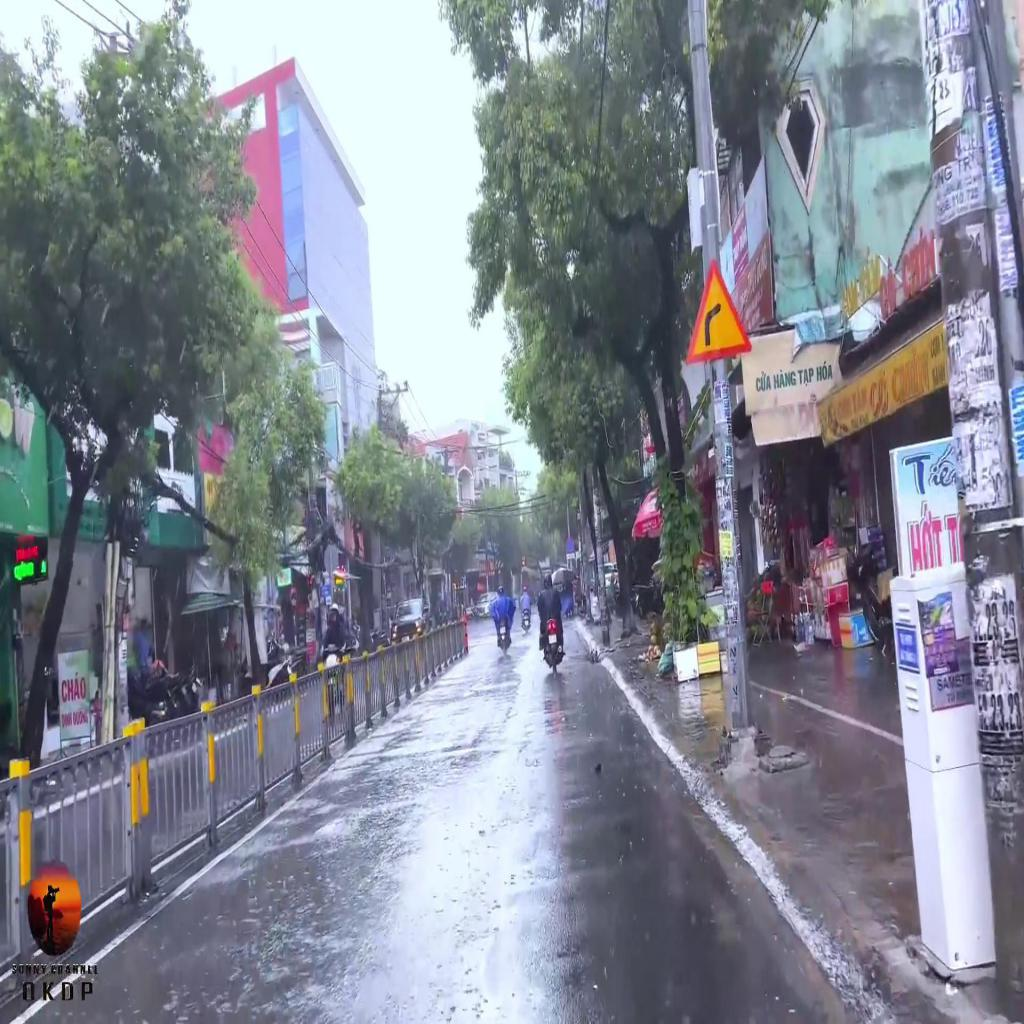cho_ngoat_nguy_hiem_ben_phai: (685, 249, 753, 365)
